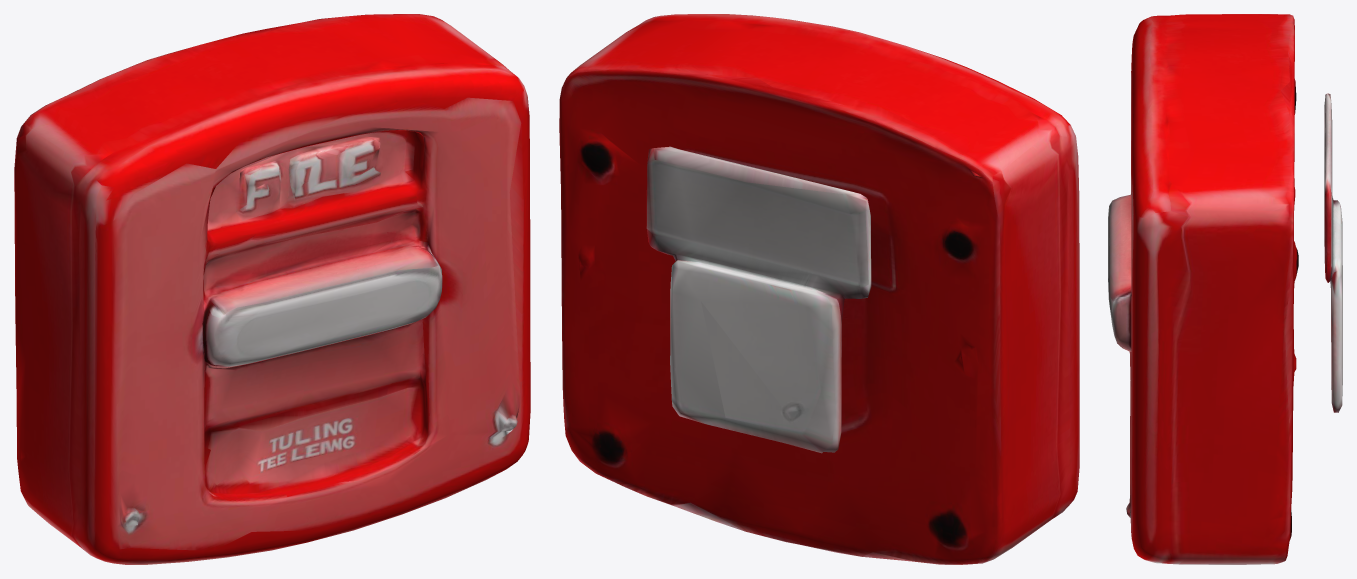
File: 068c5c45-8ccb-7f52-8000-37cb85d779a8-model.glb
3 views of the same model, side by side, from view 1: azimuth 30°, elevation 25°; view 2: azimuth 150°, elevation 25°; view 3: azimuth 270°, elevation 25° (orthographic). The views are drawn at different scales.
Parts seen in each view (by area): view 1: model; view 2: model; view 3: model.
Part boxes in pixels (box(x1,y1,x2,y2)): model: box(14, 14, 530, 564); model: box(559, 14, 1079, 564); model: box(1108, 14, 1342, 564).
Size of the model in its own units: 0.8421 by 0.8282 by 0.4166.
1 material, 1 textured.
